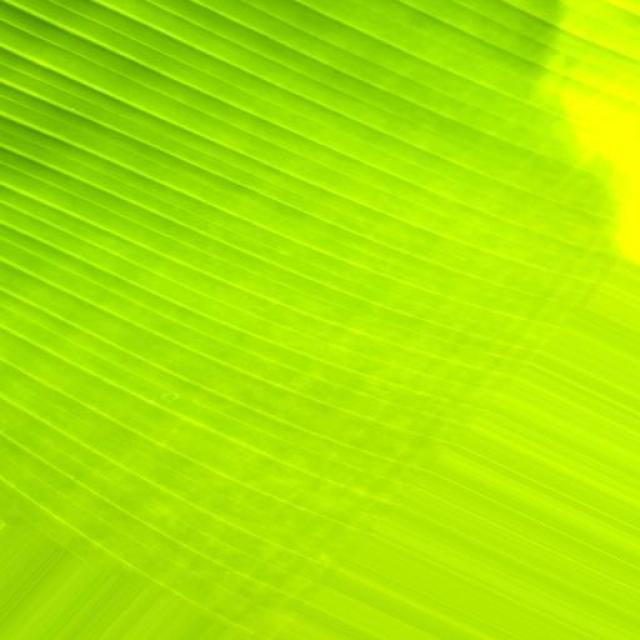Black_leaf_spot: (0, 0, 593, 621)
